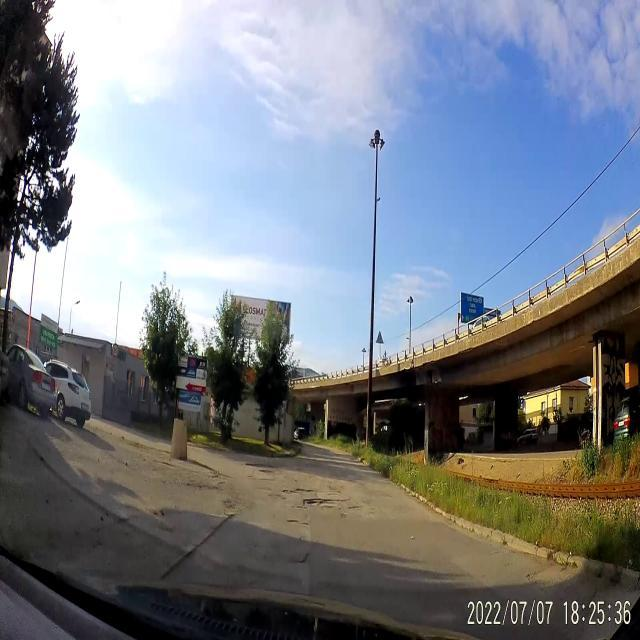Pothole: (302, 494, 354, 511), (283, 507, 314, 532), (278, 478, 314, 499), (293, 540, 314, 572), (244, 459, 278, 478)
